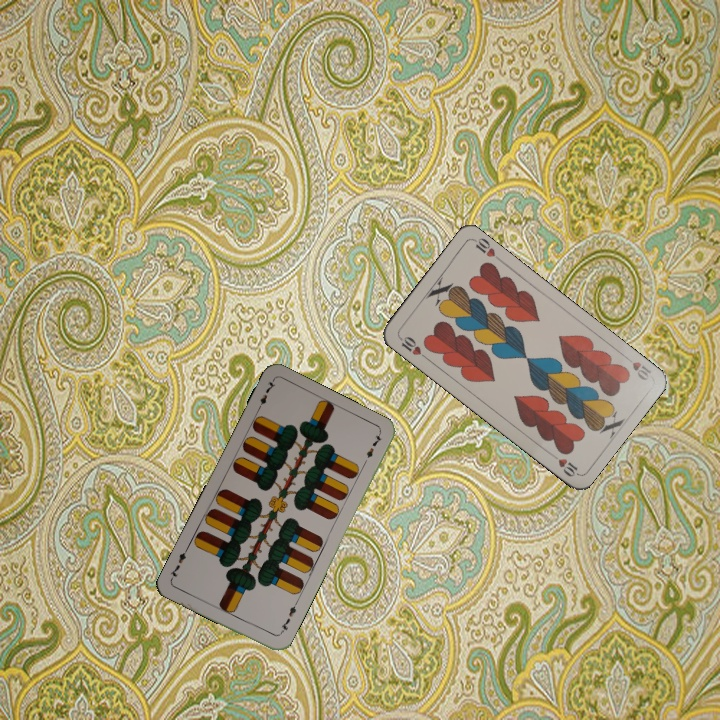E7: (252, 377, 278, 414), (276, 600, 300, 637)
H10: (620, 351, 654, 383), (395, 332, 430, 362)
